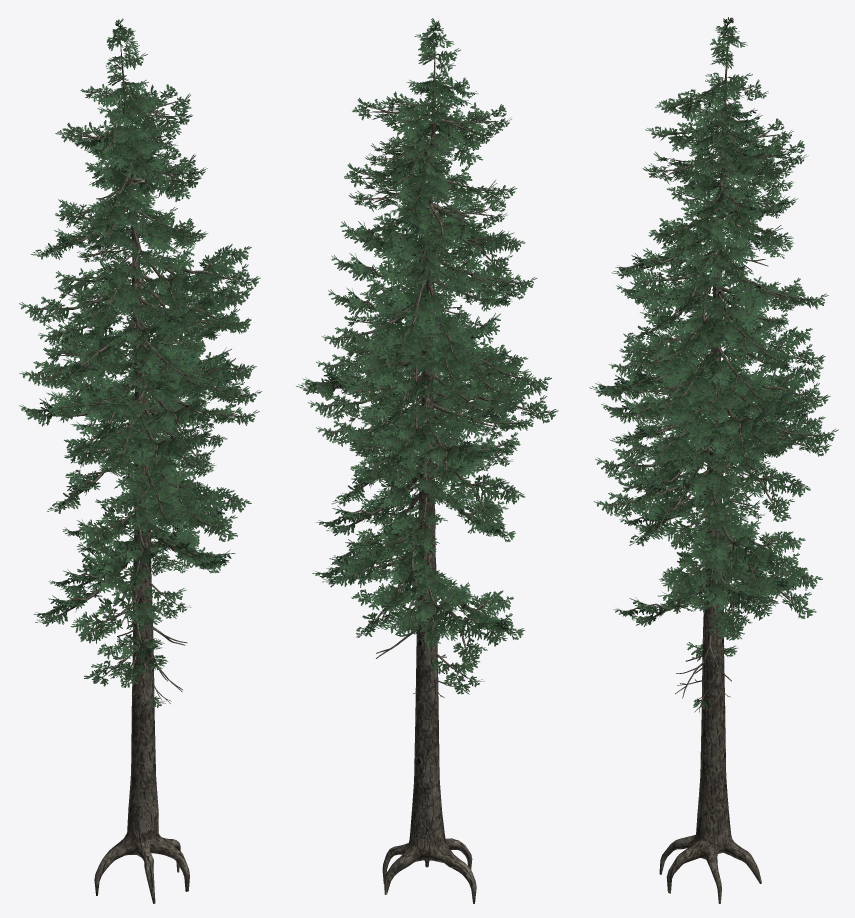
File: Tree2-5.fbx
3 views of the same model, side by side, from view 1: azimuth 30°, elevation 25°; view 2: azimuth 150°, elevation 25°; view 3: azimuth 270°, elevation 25° (orthographic). The views are drawn at different scales.
Visible parts, largest first — view 1: Tree2-5_LOD0; view 2: Tree2-5_LOD0; view 3: Tree2-5_LOD0.
Part boxes in pixels (x1,y1,x2,y2): Tree2-5_LOD0: (19,18,261,903); Tree2-5_LOD0: (296,18,558,903); Tree2-5_LOD0: (589,17,838,903).
Size of what is drawn, in the model's own units: 5.52 by 5.56 by 20.98.
